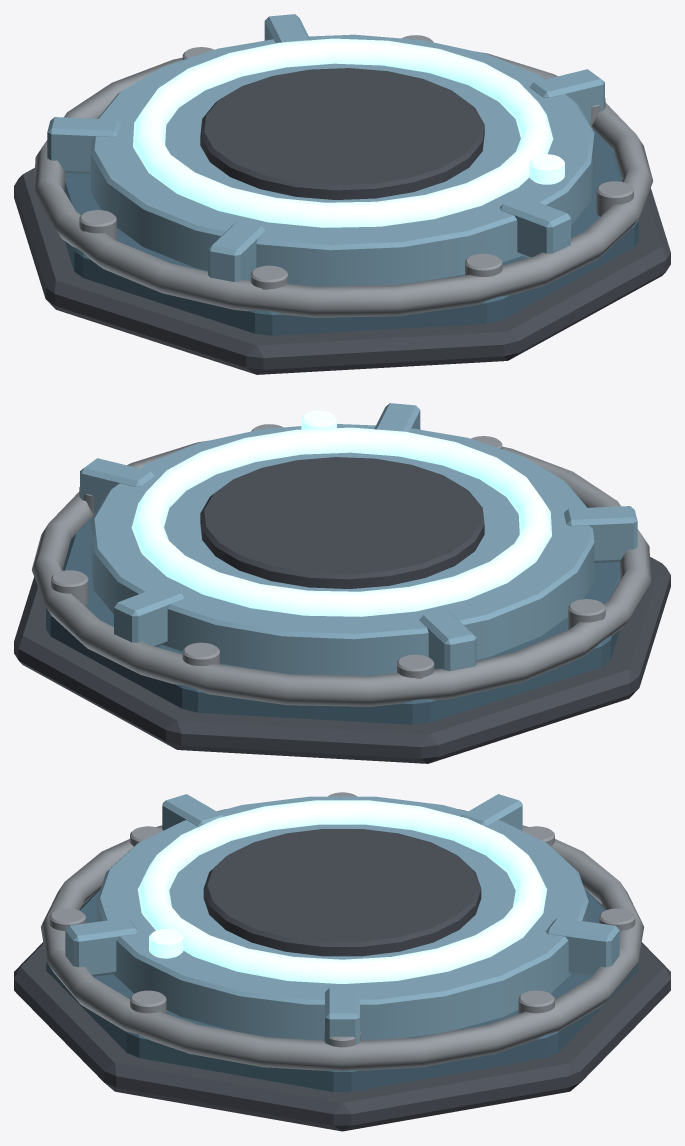
The model's file is frost_base_l1.glb.
The picture shows the model from 3 angles, top to bottom: view 1: azimuth 30°, elevation 25°; view 2: azimuth 150°, elevation 25°; view 3: azimuth 270°, elevation 25°; orthographic projection. The views are drawn at different scales.
Parts seen in each view (by area): view 1: Cylinder.002, Cylinder.003, Cylinder, Torus, Torus.001, Cylinder.001, Cube.004, Cube.002, Cube.003, Cube, Cube.001, Cylinder.012 (+4 smaller); view 2: Cylinder.002, Cylinder.003, Cylinder, Torus, Torus.001, Cylinder.001, Cube.001, Cube.003, Cube.002, Cube, Cube.004, Cylinder.005 (+4 smaller); view 3: Cylinder.002, Cylinder, Cylinder.003, Torus, Torus.001, Cylinder.001, Cube.001, Cube.004, Cube, Cube.002, Cube.003, Cylinder.012 (+4 smaller).
Part boxes in pixels (bbox=[...]): Cylinder.002: bbox=[90, 34, 594, 286]; Cylinder.003: bbox=[200, 68, 484, 199]; Cylinder: bbox=[14, 168, 670, 374]; Torus: bbox=[33, 51, 652, 317]; Torus.001: bbox=[133, 38, 553, 227]; Cylinder.001: bbox=[64, 129, 638, 335]; Cube.004: bbox=[500, 196, 570, 257]; Cube.002: bbox=[47, 117, 120, 173]; Cube.003: bbox=[208, 221, 265, 281]; Cube: bbox=[530, 69, 604, 123]; Cube.001: bbox=[264, 14, 310, 43]; Cylinder.012: bbox=[529, 154, 564, 184]; Cylinder.002: bbox=[90, 424, 594, 675]; Cylinder.003: bbox=[200, 457, 484, 588]; Cylinder: bbox=[14, 557, 670, 763]; Torus: bbox=[32, 440, 651, 706]; Torus.001: bbox=[131, 427, 551, 616]; Cylinder.001: bbox=[46, 518, 620, 724]; Cube.001: bbox=[114, 585, 184, 646]; Cube.003: bbox=[564, 506, 637, 562]; Cube.002: bbox=[419, 610, 476, 670]; Cube: bbox=[80, 458, 154, 512]; Cube.004: bbox=[374, 403, 420, 432]; Cylinder.005: bbox=[51, 570, 88, 605]; Cylinder.002: bbox=[96, 796, 588, 1040]; Cylinder: bbox=[14, 900, 670, 1131]; Cylinder.003: bbox=[203, 829, 481, 956]; Torus: bbox=[41, 809, 643, 1070]; Torus.001: bbox=[137, 800, 547, 983]; Cylinder.001: bbox=[46, 889, 638, 1091]; Cube.001: bbox=[545, 918, 619, 976]; Cube.004: bbox=[65, 918, 139, 976]; Cube: bbox=[325, 988, 359, 1044]; Cube.002: bbox=[460, 794, 522, 830]; Cube.003: bbox=[162, 794, 224, 830]; Cylinder.012: bbox=[149, 929, 183, 958].
Bounding box in the file's own units: 2.08 × 0.4 × 2.08.
